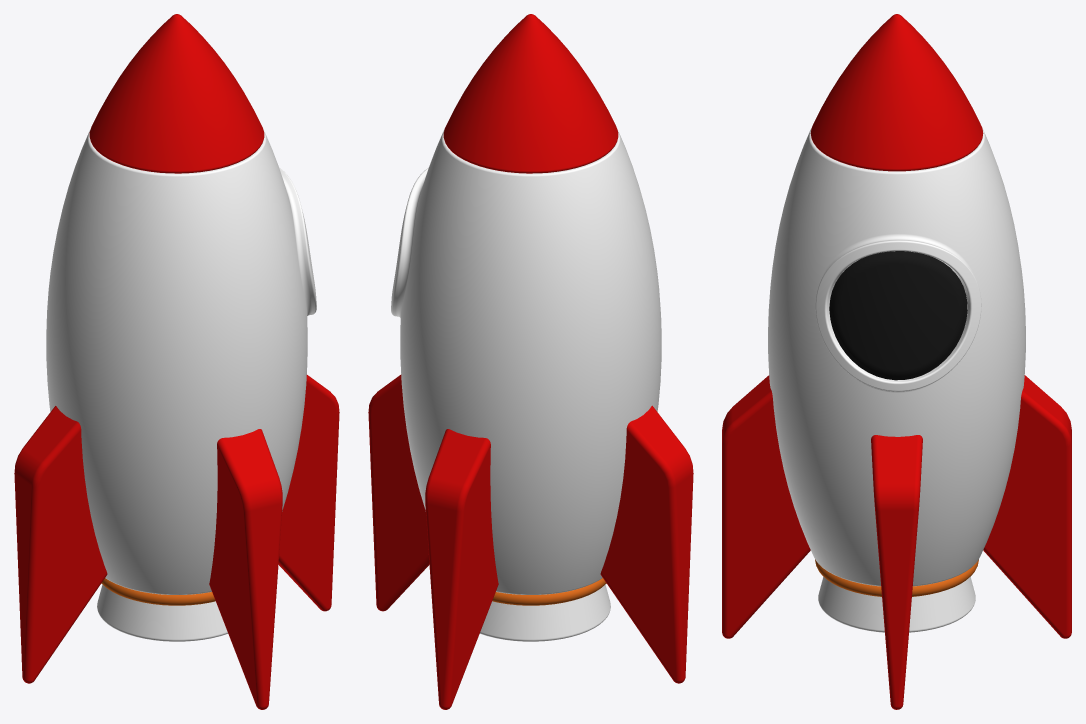
3 renders of one model, left to right at view 1: azimuth 30°, elevation 25°; view 2: azimuth 150°, elevation 25°; view 3: azimuth 270°, elevation 25°, orthographic.
Visible parts, largest first — view 1: Revolved.002, Solid 60, Extruded.002, Solid 61, Solid.001, Solid 68, Cylinder.001; view 2: Revolved.002, Solid 60, Extruded.002, Extruded.001, Solid.001, Solid 68, Cylinder.001; view 3: Revolved.002, Solid 60, Solid 61, Extruded.001, Lofted.001, Solid.001, Solid 68, Cylinder.001.
Boxes of the visible parts, x1=… form: Revolved.002: x1=46, y1=129, x2=316, y2=594; Solid 60: x1=89, y1=14, x2=264, y2=173; Extruded.002: x1=14, y1=406, x2=107, y2=683; Solid 61: x1=209, y1=429, x2=282, y2=709; Solid.001: x1=278, y1=375, x2=339, y2=611; Solid 68: x1=97, y1=584, x2=227, y2=641; Cylinder.001: x1=101, y1=578, x2=215, y2=605; Revolved.002: x1=391, y1=130, x2=661, y2=594; Solid 60: x1=443, y1=14, x2=618, y2=173; Extruded.002: x1=600, y1=405, x2=693, y2=683; Extruded.001: x1=425, y1=429, x2=498, y2=709; Solid.001: x1=368, y1=374, x2=429, y2=611; Solid 68: x1=480, y1=584, x2=610, y2=641; Cylinder.001: x1=492, y1=578, x2=606, y2=605; Revolved.002: x1=768, y1=128, x2=1025, y2=586; Solid 60: x1=810, y1=14, x2=983, y2=171; Solid 61: x1=722, y1=375, x2=810, y2=638; Extruded.001: x1=983, y1=375, x2=1071, y2=638; Lofted.001: x1=829, y1=251, x2=967, y2=380; Solid.001: x1=871, y1=435, x2=922, y2=709; Solid 68: x1=818, y1=577, x2=975, y2=632; Cylinder.001: x1=815, y1=559, x2=978, y2=596.
Bounding box in the file's own units: 1.12 × 2.19 × 1.12.
2 materials, 1 textured.
